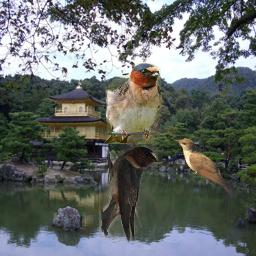Cuckoo: (174, 138, 234, 197)
Swallow: (99, 146, 158, 242), (104, 63, 163, 144)
